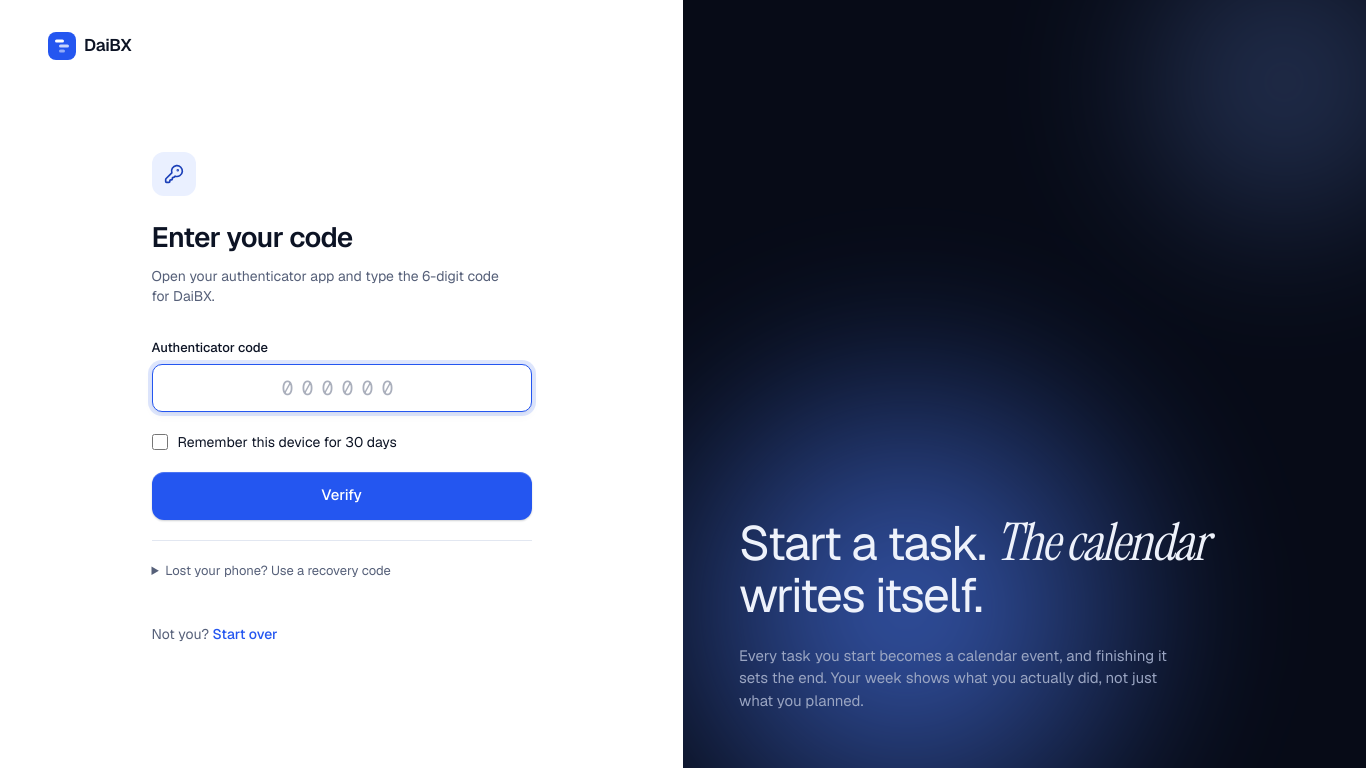
Test case: an expired sign-in step tells the visitor to start over
Type "123456" into the field labelled "Authenticator code".
click(342, 388); type("123456")  # box x1=152 y1=364 x2=532 y2=412
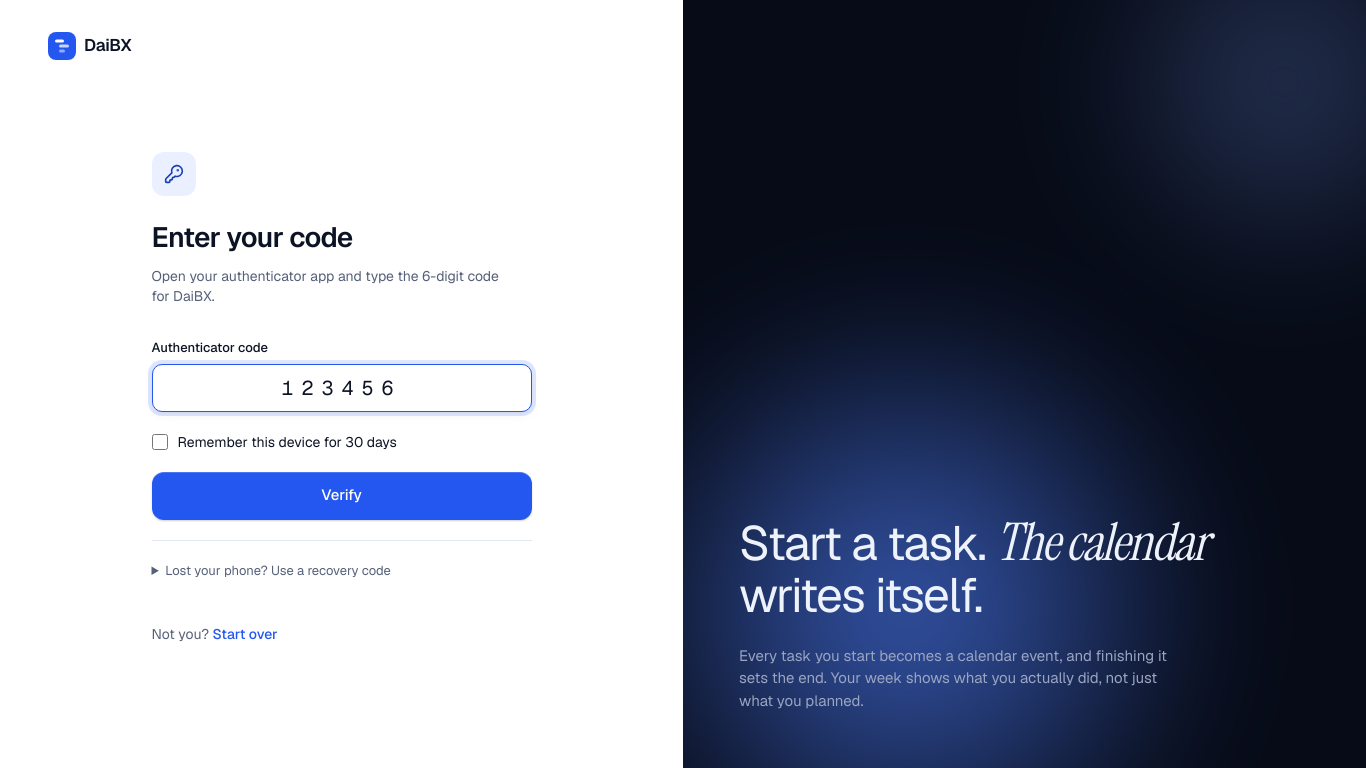
Click the button "Verify".
click(342, 496)  # box x1=152 y1=472 x2=532 y2=520
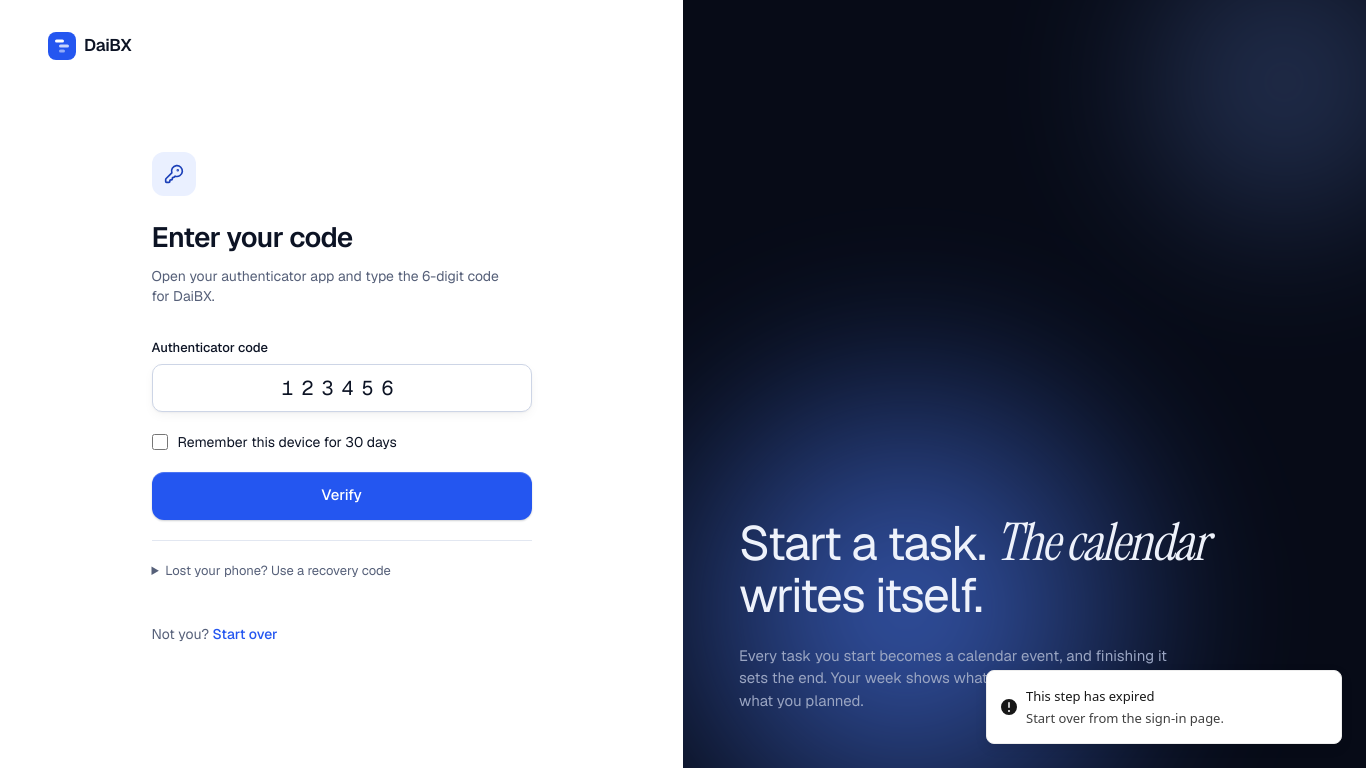
Now the text "This step has expired" is shown, box x1=1026 y1=687 x2=1154 y2=705
Now the text "Start over from the sign-in page." is shown, box x1=1026 y1=709 x2=1224 y2=727
